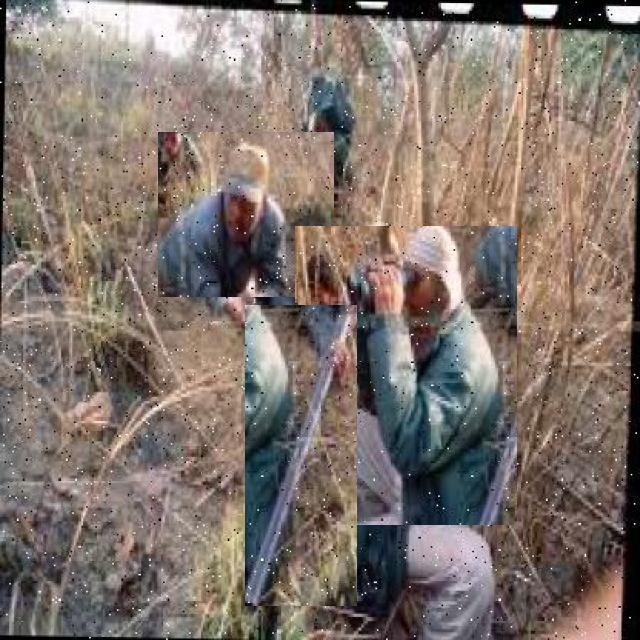poacher: (295, 226, 517, 525), (158, 132, 334, 297), (280, 90, 371, 172)
weapon: (245, 305, 357, 606)
